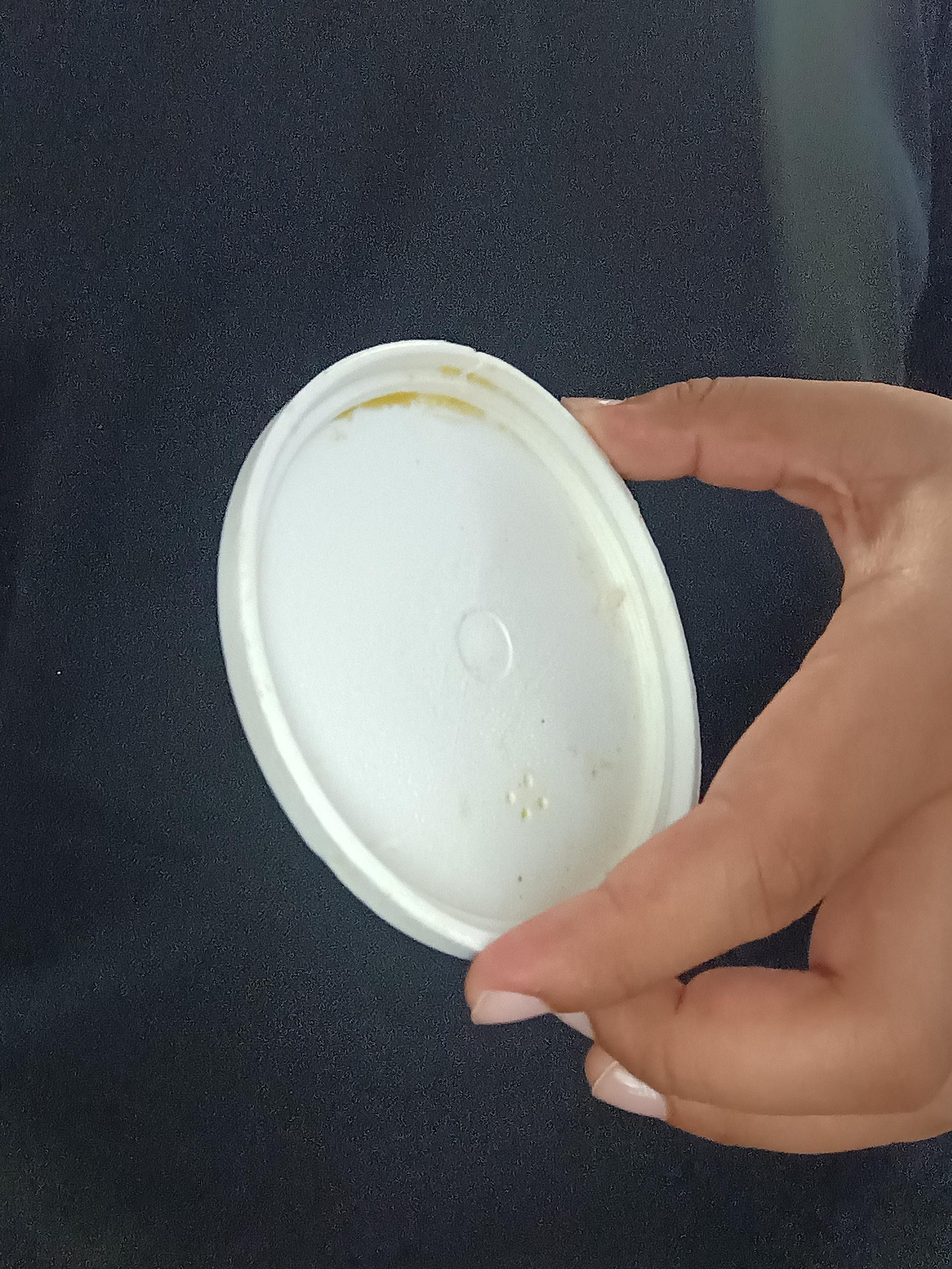Ordinario: (212, 338, 713, 965)
